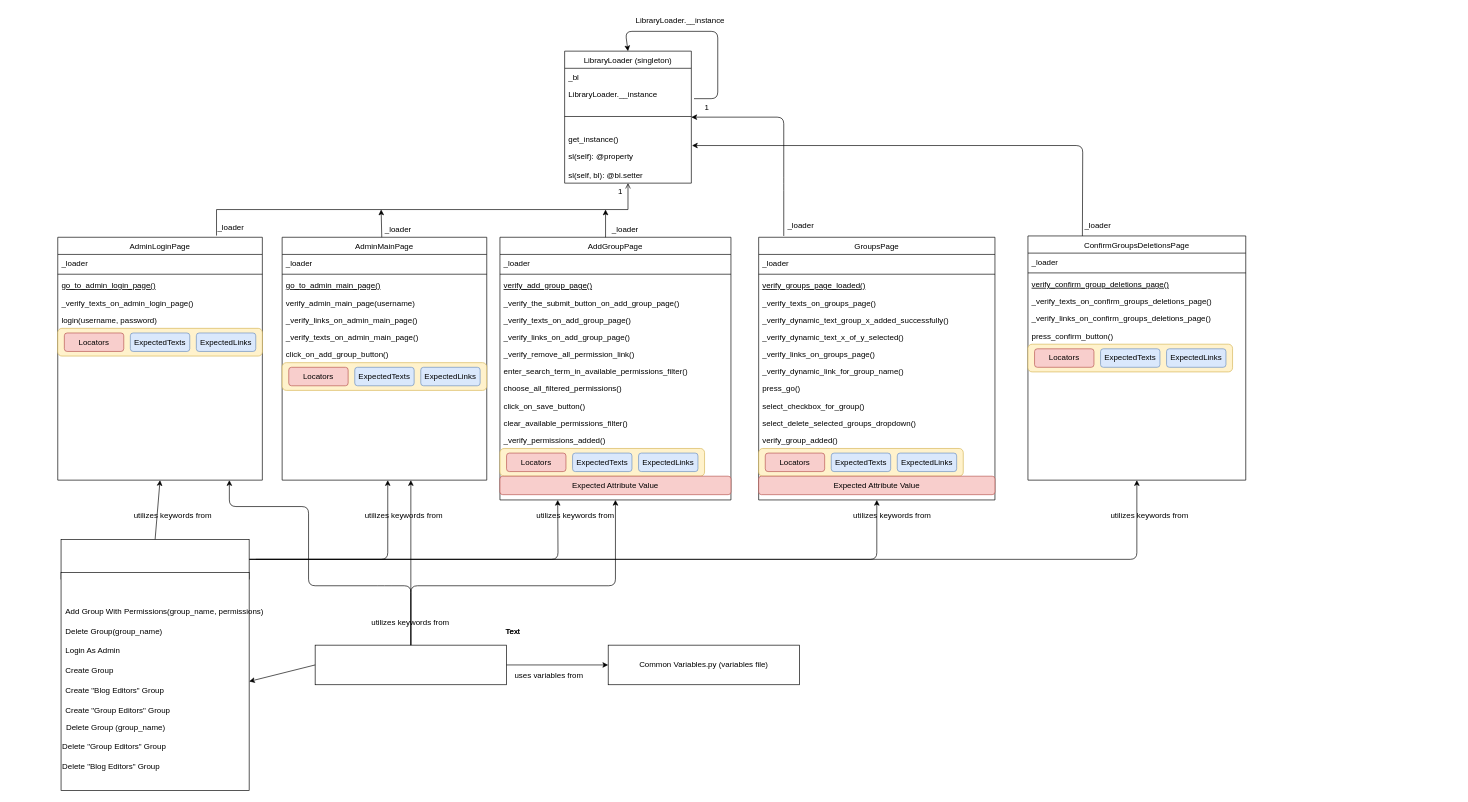
The diagram is 1468 pixels wide and 802 high, and some of its shapes have lost their labels. Here are the shapes that lost their labels. From the top down, the centre of each, then its label:
At point 154,559: "DjangoAdminSiteTestSuite_resource.robot (resource file)".
At point 410,664: "DjangoAdminSiteTestSuite.robot".
